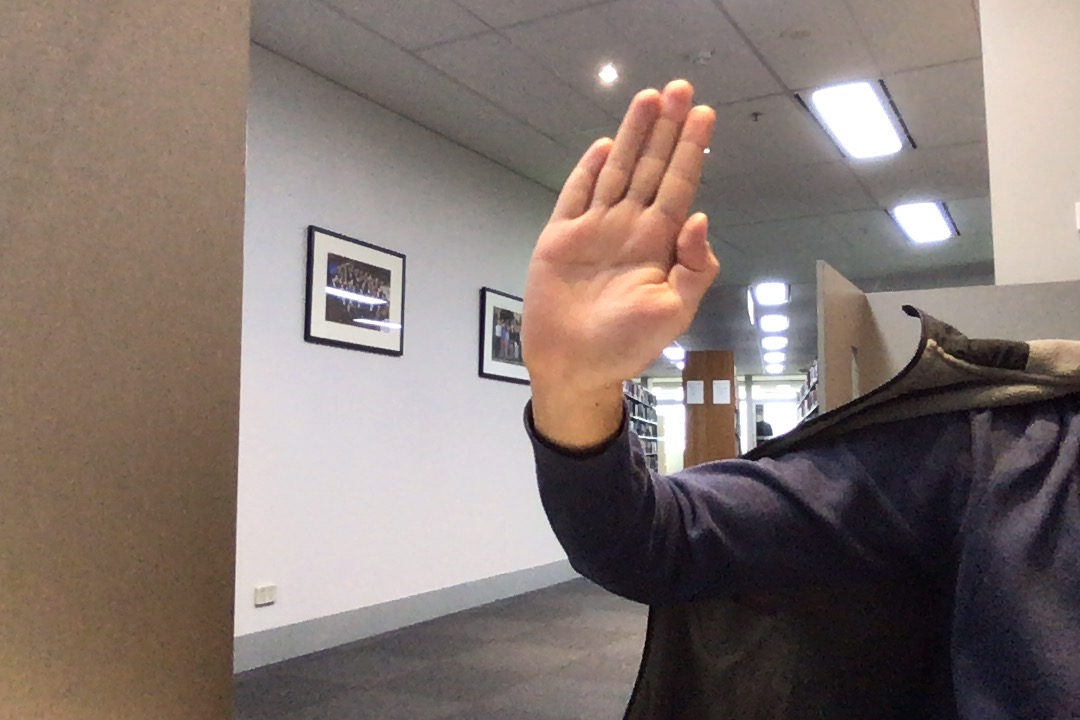palmhand: (511, 73, 730, 398)
